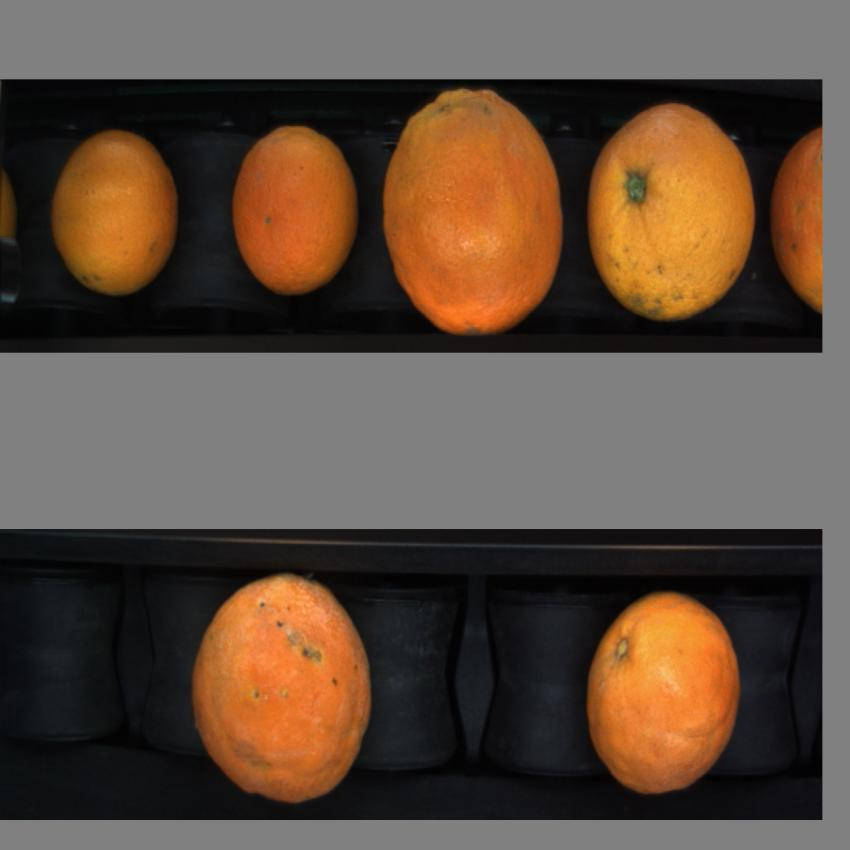Buen estado: (585, 101, 764, 326), (582, 581, 745, 797), (44, 126, 194, 296), (228, 117, 364, 299)
Mal estado: (378, 84, 572, 340), (190, 568, 377, 808), (768, 117, 822, 310)
